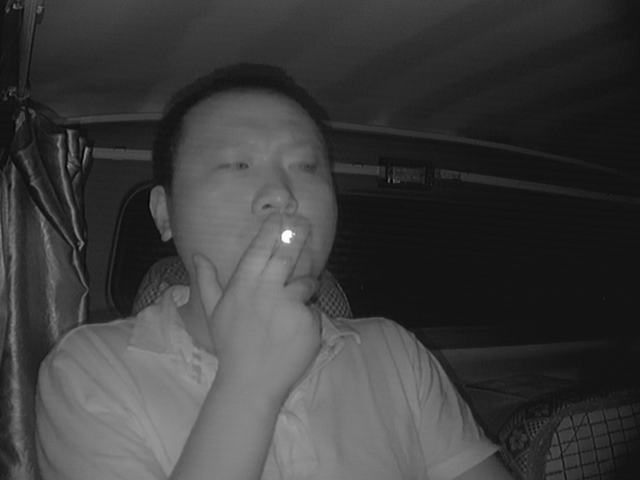hand: (231, 216, 323, 347)
